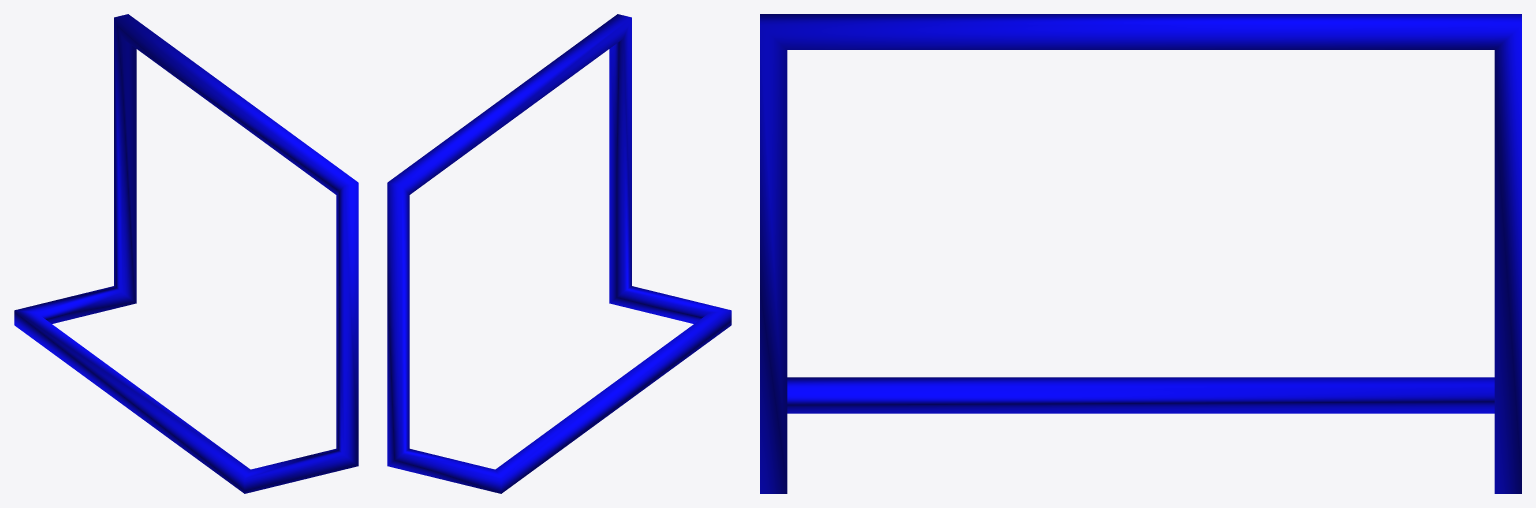
Rendered from Goalsally.dae.
The picture shows the model from 3 angles, left to right: view 1: azimuth 30°, elevation 25°; view 2: azimuth 150°, elevation 25°; view 3: azimuth 270°, elevation 25°; orthographic projection. The views are drawn at different scales.
Visible parts, largest first — view 1: visual_0_field_1_1; view 2: visual_0_field_1_1; view 3: visual_0_field_1_1.
Boxes of the visible parts, left/top/right/bottom form: visual_0_field_1_1: left=14, top=14, right=358, bottom=493; visual_0_field_1_1: left=387, top=14, right=731, bottom=493; visual_0_field_1_1: left=760, top=14, right=1521, bottom=493.
Size of the model in its own units: 0.8 by 2.8 by 1.9.
